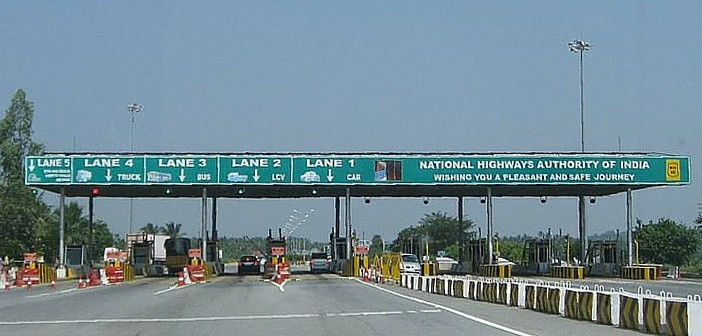toll plaza: (31, 139, 691, 273)
